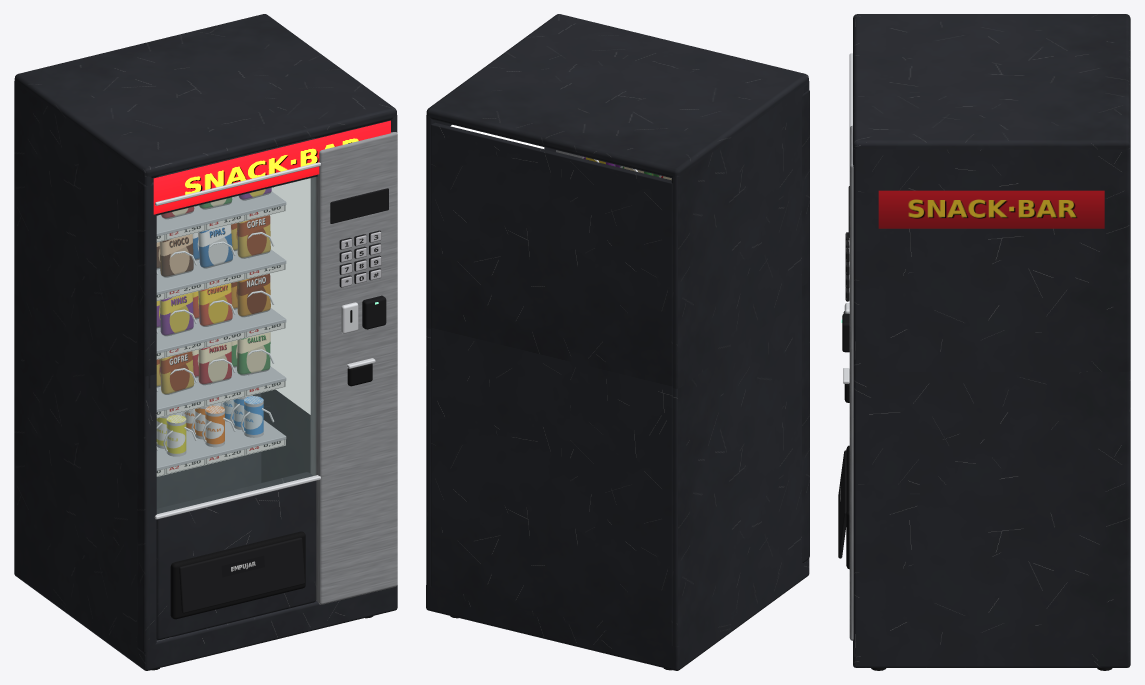
Rendered from maquina_snacks.glb.
3 renders of one model, left to right at view 1: azimuth 30°, elevation 25°; view 2: azimuth 150°, elevation 25°; view 3: azimuth 270°, elevation 25°, orthographic. The views are drawn at different scales.
Visible parts, largest first — view 1: maquina_snacks; view 2: maquina_snacks; view 3: maquina_snacks.
Boxes of the visible parts, <box> form: maquina_snacks: <box>14,14,397,670</box>; maquina_snacks: <box>426,14,809,670</box>; maquina_snacks: <box>838,14,1130,670</box>.
Size of the model in its own units: 0.9535 by 1.83 by 0.9049.
17 materials, 10 textured.
